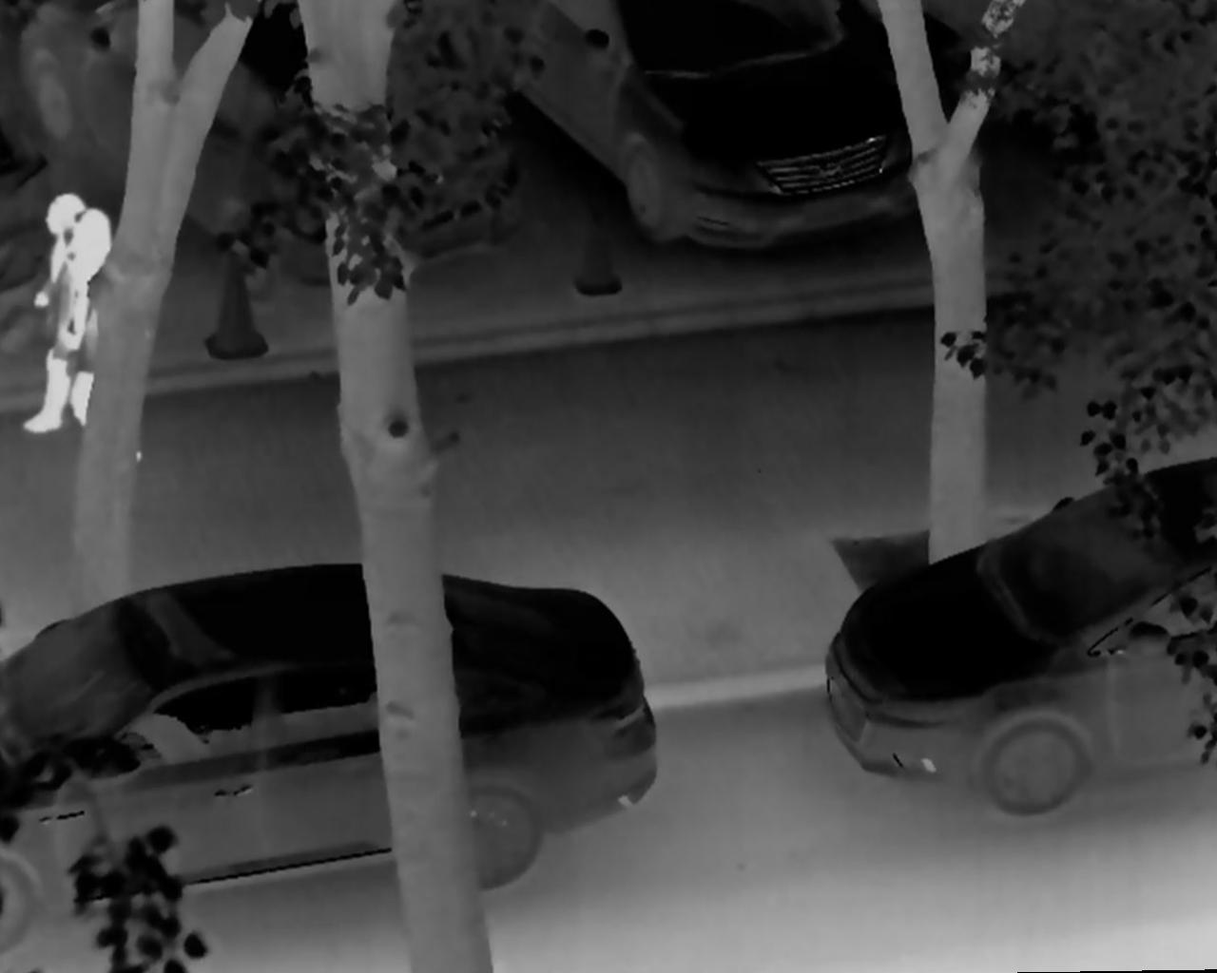person: (60, 209, 148, 471), (18, 183, 104, 440)
